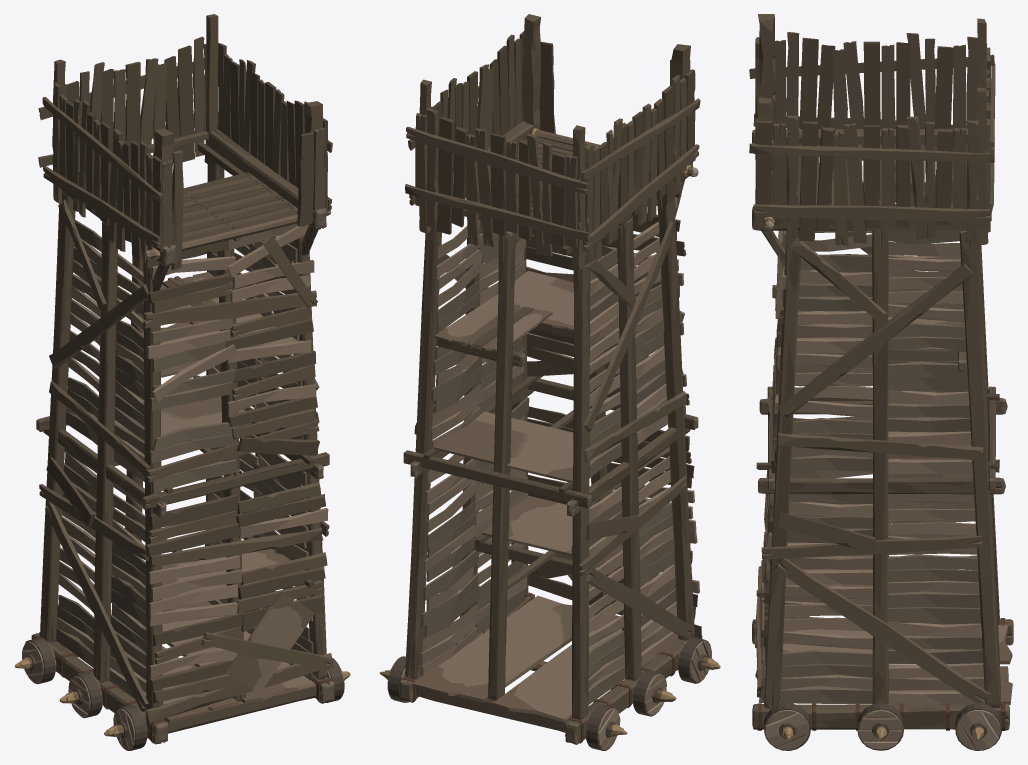
File: env_siege_tower.gltf
3 renders of one model, left to right at view 1: azimuth 30°, elevation 25°; view 2: azimuth 150°, elevation 25°; view 3: azimuth 270°, elevation 25°, orthographic. The views are drawn at different scales.
Visible parts, largest first — view 1: env_siege_tower; view 2: env_siege_tower; view 3: env_siege_tower.
Boxes of the visible parts, <box> form: env_siege_tower: <box>14,14,350,750</box>; env_siege_tower: <box>379,14,720,750</box>; env_siege_tower: <box>749,14,1013,750</box>.
Size of the model in its own units: 6.09 by 14.58 by 5.4.
1 material, 1 textured.
